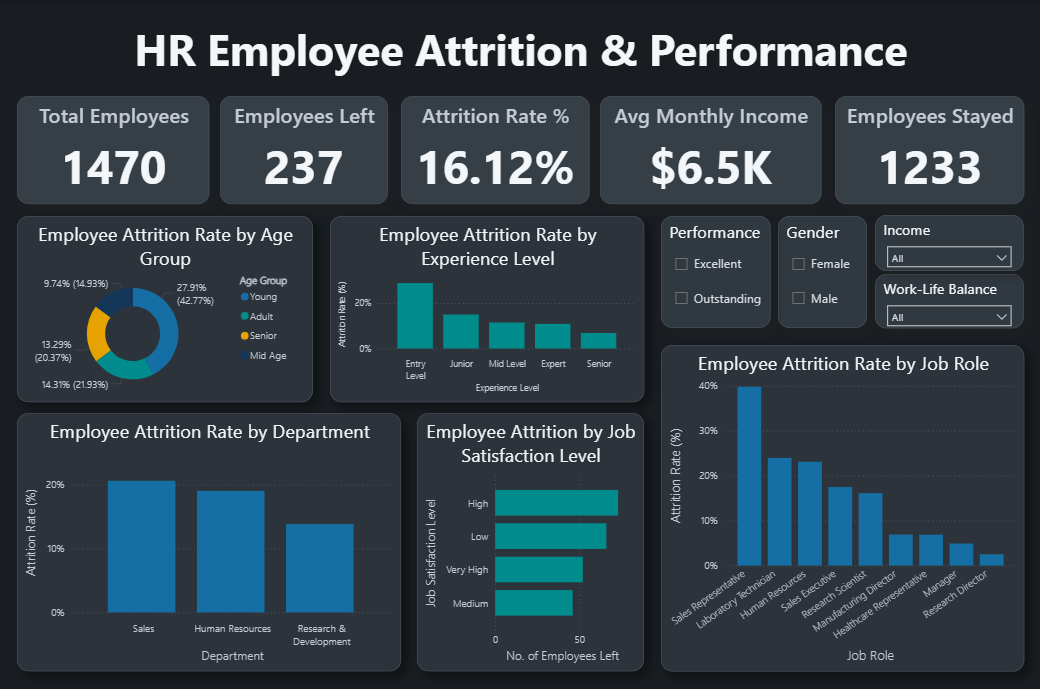

What the dashboard file says about the page in this screenshot:
{"tool":"powerbi","page":{"name":"Page 1","canvas":[1360,900],"ordinal":0},"visuals":[{"type":"shape","box":[22.9,22.9,1314.3,80],"z":0},{"type":"card","title":"Total Employees","fields":{"Values":["Measure Table.Total Employees"]},"box":[22.9,125.7,251.4,141.4],"z":0},{"type":"card","title":"Employees Left","fields":{"Values":["Measure Table.Employees Left"]},"box":[288.6,125.7,218.6,141.4],"z":1000},{"type":"card","title":"Attrition Rate %","fields":{"Values":["Measure Table.Attrition Rate (%)"]},"box":[524.3,125.7,245.7,141.4],"z":2000},{"type":"card","title":"Avg Monthly Income","fields":{"Values":["Measure Table.Avg Monthly Income"]},"box":[784.3,125.7,288.6,141.4],"z":3000},{"type":"card","title":"Employees Stayed","fields":{"Values":["Measure Table.Employees Stayed"]},"box":[1090,125.7,247.1,141.4],"z":4000},{"type":"clusteredColumnChart","title":"Employee Attrition Rate by Department","fields":{"Category":["HR-Employee-Attrition.Department"],"Y":["Measure Table.Attrition Rate (%)"]},"box":[22.9,538.6,501.4,337.1],"z":5000},{"type":"clusteredColumnChart","title":"Employee Attrition Rate by Job Role","fields":{"Category":["HR-Employee-Attrition.JobRole"],"Y":["Measure Table.Attrition Rate (%)"]},"box":[862.9,450,474.3,425.7],"z":6000},{"type":"donutChart","title":"Employee Attrition Rate by Age Group","fields":{"Category":["HR-Employee-Attrition.Age Group"],"Y":["Measure Table.Attrition Rate (%)"]},"box":[22.9,281.4,385.7,242.9],"z":7000},{"type":"clusteredBarChart","title":"Employee Attrition by Job Satisfaction Level","fields":{"Y":["Measure Table.Attrition Count"],"Category":["HR-Employee-Attrition.JobSatisfaction"]},"box":[545.7,538.6,295.7,337.1],"z":8000},{"type":"clusteredColumnChart","title":"Employee Attrition Rate by Experience Level","fields":{"Category":["HR-Employee-Attrition.Experience"],"Y":["Measure Table.Attrition Rate (%)"]},"box":[431.4,281.4,410,242.9],"z":9000},{"type":"slicer","title":"Gender","fields":{"Values":["HR-Employee-Attrition.Gender"]},"box":[1015.7,281.4,115.7,145.7],"z":10000},{"type":"slicer","title":"Performance","fields":{"Values":["HR-Employee-Attrition.PerformanceRating"]},"box":[862.9,281.4,142.9,145.7],"z":11000},{"type":"slicer","title":"Work-Life Balance","fields":{"Values":["HR-Employee-Attrition.WorkLifeBalance"]},"box":[1142.9,357.1,194.3,71.4],"z":12000},{"type":"slicer","title":"Income","fields":{"Values":["HR-Employee-Attrition.Income Level"]},"box":[1142.9,280,194.3,72.9],"z":13000}]}

Visuals, with their boxes in screenshot pixels (x1, y1, x2, y2), scaled from the page's 1360x900 canvas onto the 1040x689 screenshot:
shape: left=18, top=18, right=1023, bottom=79
"Total Employees" card: left=18, top=96, right=210, bottom=204
"Employees Left" card: left=221, top=96, right=388, bottom=204
"Attrition Rate %" card: left=401, top=96, right=589, bottom=204
"Avg Monthly Income" card: left=600, top=96, right=820, bottom=204
"Employees Stayed" card: left=834, top=96, right=1022, bottom=204
"Employee Attrition Rate by Department" clusteredColumnChart: left=18, top=412, right=401, bottom=670
"Employee Attrition Rate by Job Role" clusteredColumnChart: left=660, top=344, right=1023, bottom=670
"Employee Attrition Rate by Age Group" donutChart: left=18, top=215, right=312, bottom=401
"Employee Attrition by Job Satisfaction Level" clusteredBarChart: left=417, top=412, right=643, bottom=670
"Employee Attrition Rate by Experience Level" clusteredColumnChart: left=330, top=215, right=643, bottom=401
"Gender" slicer: left=777, top=215, right=865, bottom=327
"Performance" slicer: left=660, top=215, right=769, bottom=327
"Work-Life Balance" slicer: left=874, top=273, right=1023, bottom=328
"Income" slicer: left=874, top=214, right=1023, bottom=270
